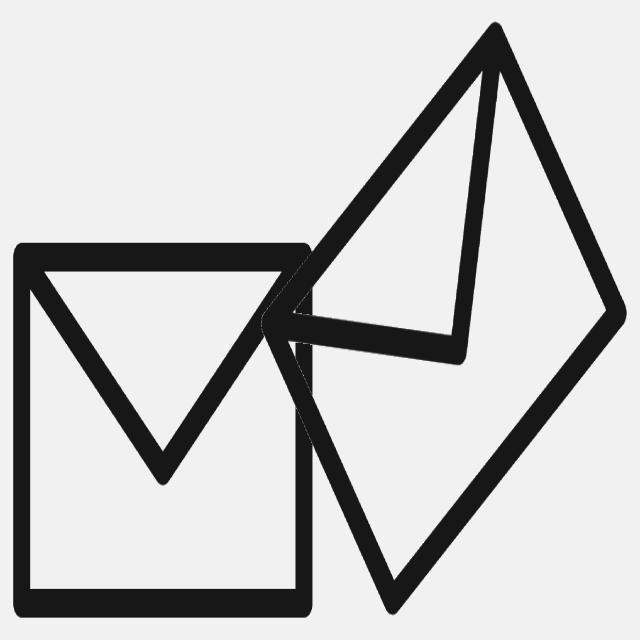letter: (251, 17, 632, 624), (9, 224, 319, 630)
